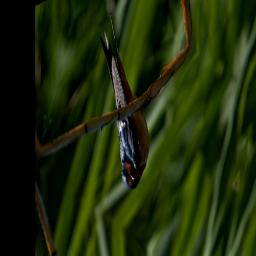Swallow: (70, 2, 176, 197)
